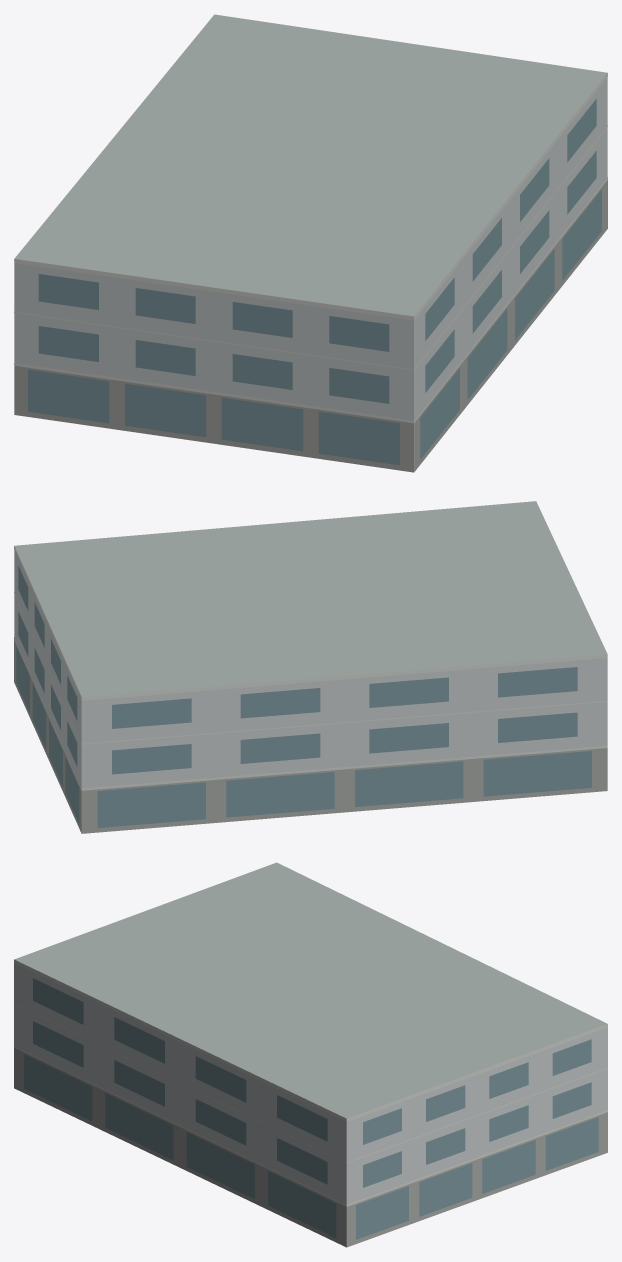
File: survey-upis-32472819.glb
3 renders of one model, top to bottom at view 1: azimuth 30°, elevation 25°; view 2: azimuth 150°, elevation 25°; view 3: azimuth 270°, elevation 25°, orthographic. The views are drawn at different scales.
Visible parts, largest first — view 1: survey-upis-32472819.tmp; view 2: survey-upis-32472819.tmp; view 3: survey-upis-32472819.tmp.
Part boxes in pixels (<box>): survey-upis-32472819.tmp: <box>14,14,607,472</box>; survey-upis-32472819.tmp: <box>14,501,607,833</box>; survey-upis-32472819.tmp: <box>14,862,607,1247</box>.
Size of the model in its own units: 39.04 by 9.15 by 38.23.
